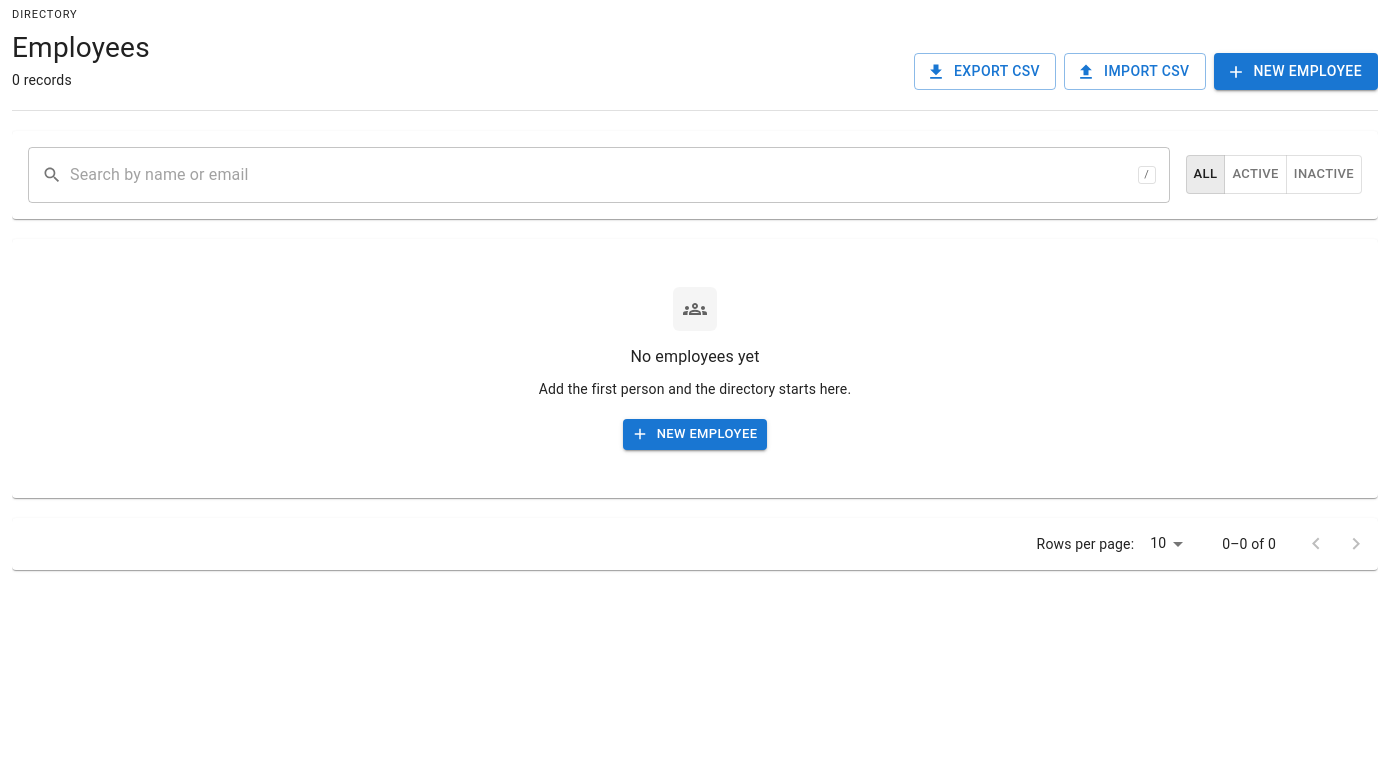
Test case: EmployeeListPage on a narrow screen › offers a way out of an empty filtered list on a phone too
The image size is (1390, 768).
Type "nobody" into the field with placeholder "Search by name or email" at (600, 175), box [70, 147, 1130, 203]
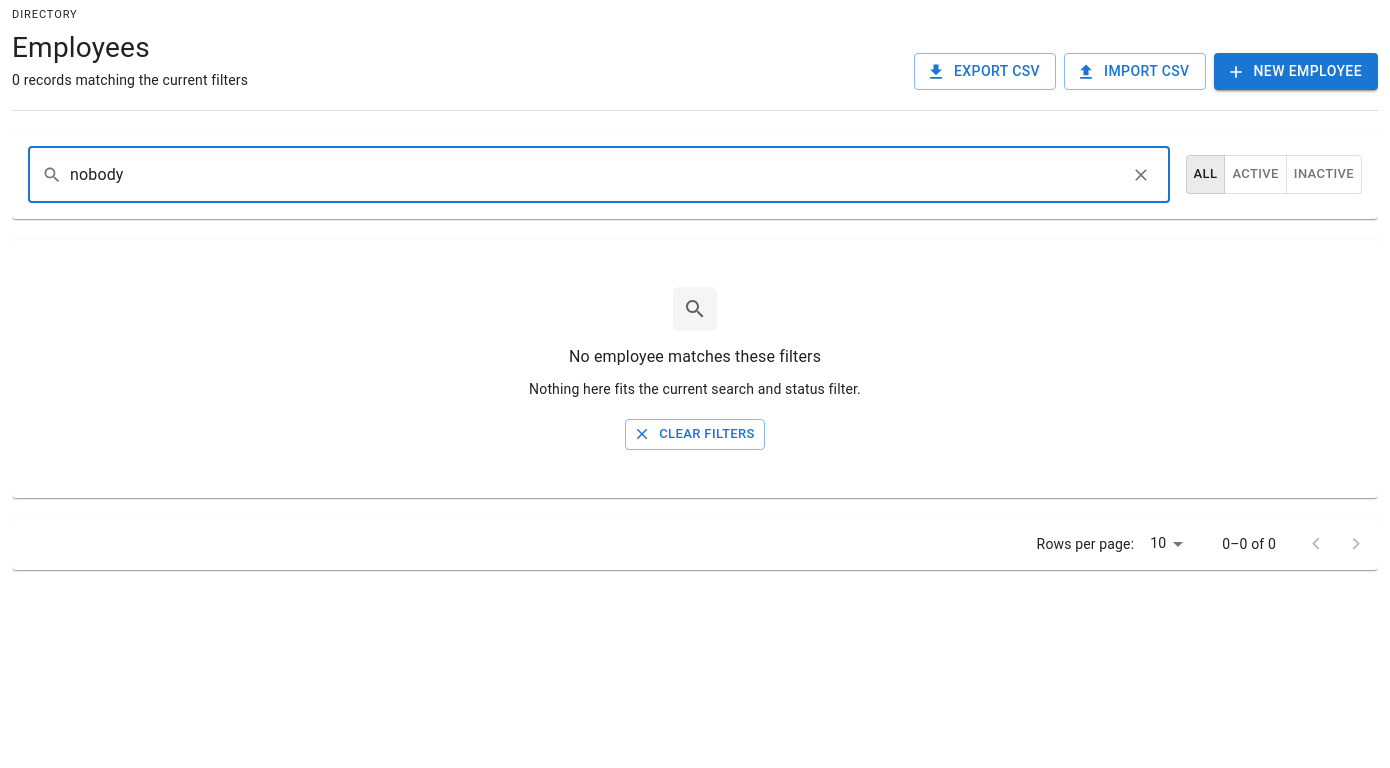
Expected: the heading "No employee matches these filters" is shown, [569, 343, 821, 371]
Click the button "Clear filters" at (695, 434), box [625, 419, 765, 450]
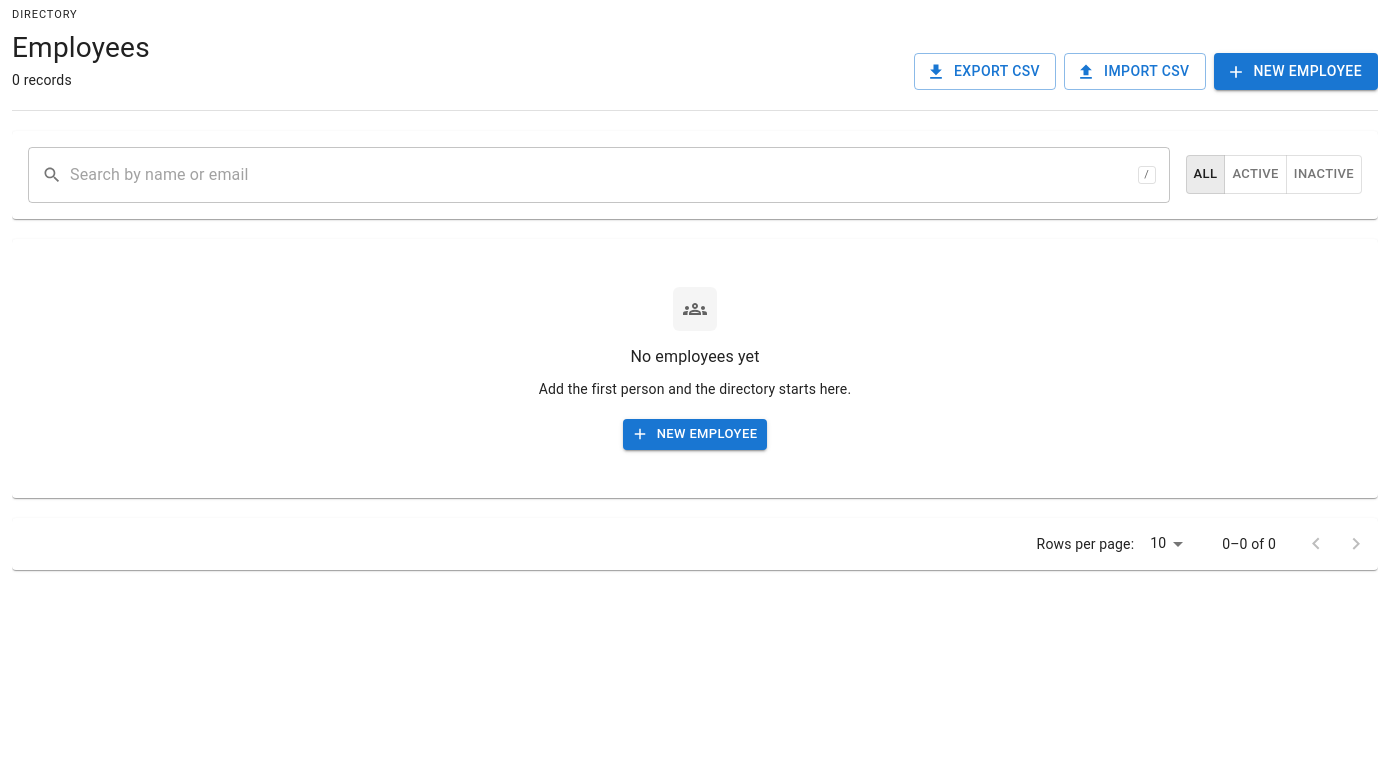
Expected: the heading "No employees yet" is shown, [630, 343, 760, 371]
Expected: the button "Clear filters" is gone
